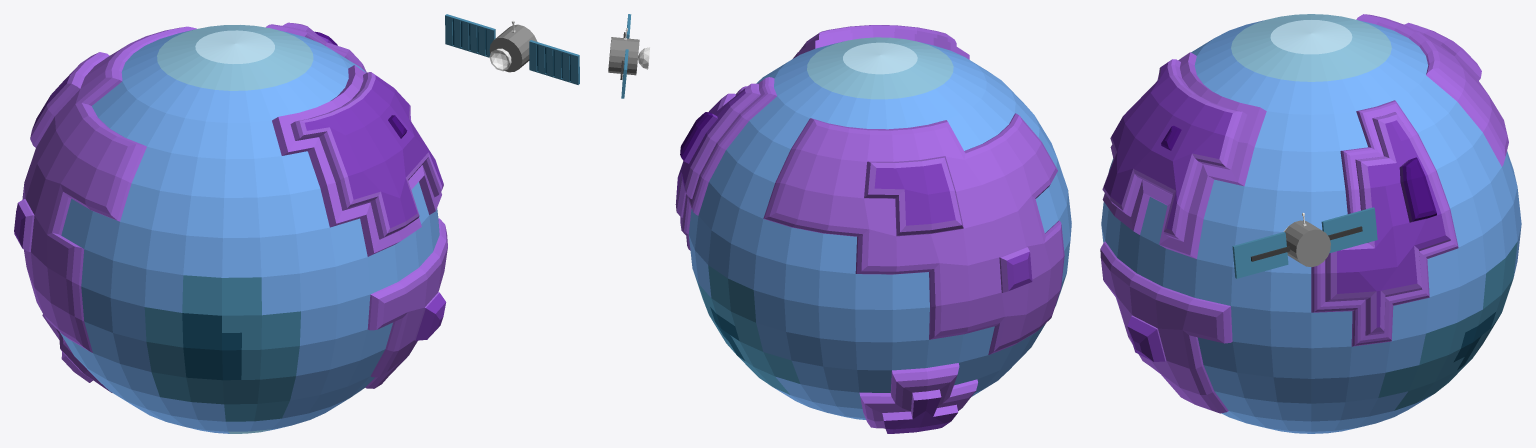
File: planet.glb
The picture shows the model from 3 angles, left to right: view 1: azimuth 30°, elevation 25°; view 2: azimuth 150°, elevation 25°; view 3: azimuth 270°, elevation 25°; orthographic projection. The views are drawn at different scales.
Parts seen in each view (by area): view 1: Sphere; view 2: Sphere; view 3: Sphere.
Part boxes in pixels (bbox=[...]): Sphere: bbox=[14, 14, 579, 433]; Sphere: bbox=[608, 14, 1071, 433]; Sphere: bbox=[1100, 14, 1521, 433].
Bounding box in the file's own units: 2.8 × 2 × 2.
Materials: 2 (2 with a texture image).
